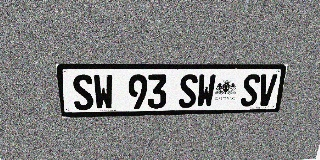3: (148, 74, 167, 109)
9: (128, 74, 147, 109)
S: (71, 74, 94, 110), (178, 74, 198, 108), (240, 74, 261, 106)
V: (256, 74, 278, 106)
W: (93, 74, 114, 110), (196, 74, 216, 107)
